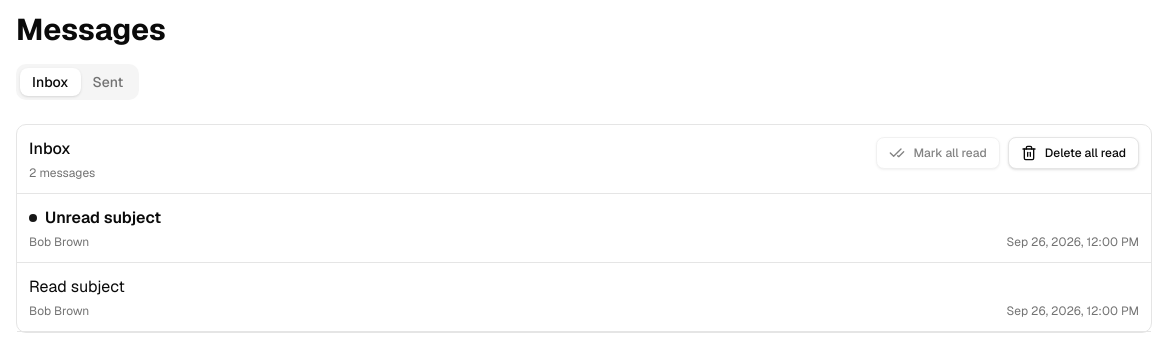
Test case: MessagesPage delete controls › offers delete all but not delete all read in the sent folder
This screenshot has width=1164, height=350.
Click the tab "Sent" at (108, 82), box [80,68,135,96]
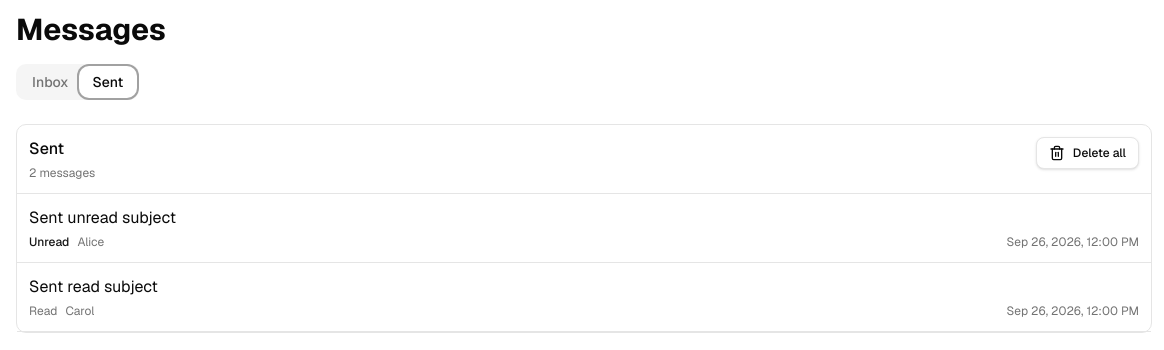
Expected: the button "Delete all" is enabled, [1036,137,1139,169]
Result: the text "Sent unread subject" is shown at [29,206,176,230]
Result: the button "Delete all read" is gone
